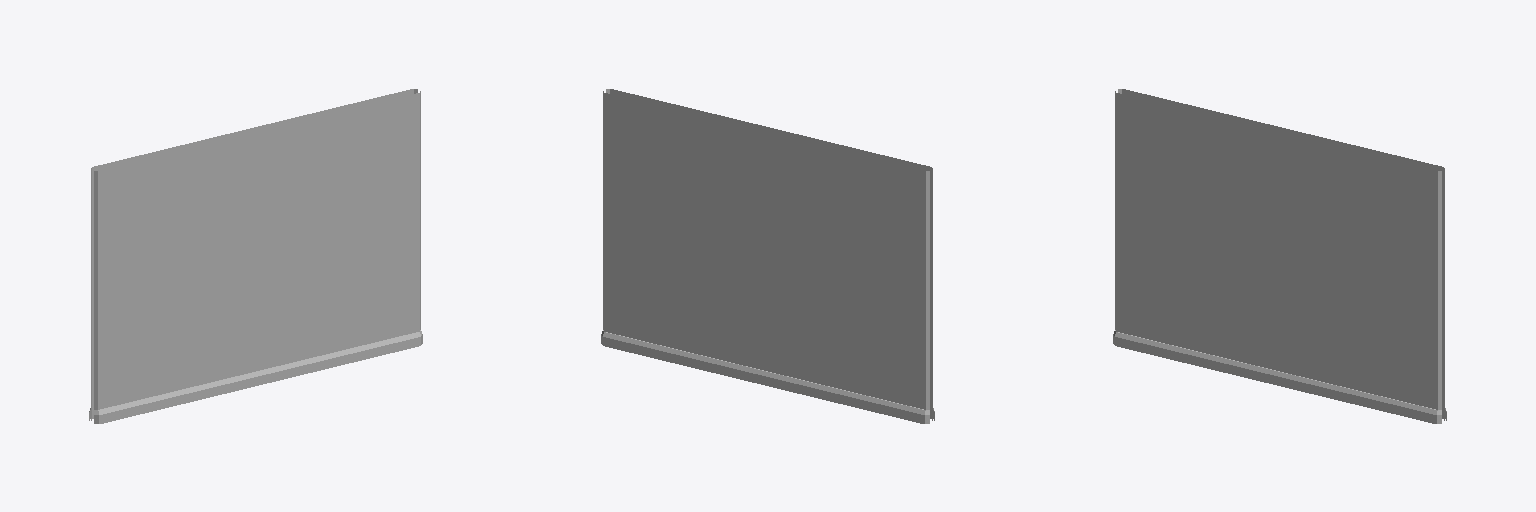
Rendered from wall_2_1.obj.
The picture shows the model from 3 angles: view 1: azimuth 30°, elevation 25°; view 2: azimuth 150°, elevation 25°; view 3: azimuth 330°, elevation 25°; orthographic projection.
Parts seen in each view (by area): view 1: wall_2_1; view 2: wall_2_1; view 3: wall_2_1.
Part boxes in pixels (bbox=[...]): wall_2_1: bbox=[89, 89, 422, 423]; wall_2_1: bbox=[601, 89, 934, 423]; wall_2_1: bbox=[1113, 89, 1446, 423].
Bounding box in the file's own units: 4.09 × 3 × 0.18.